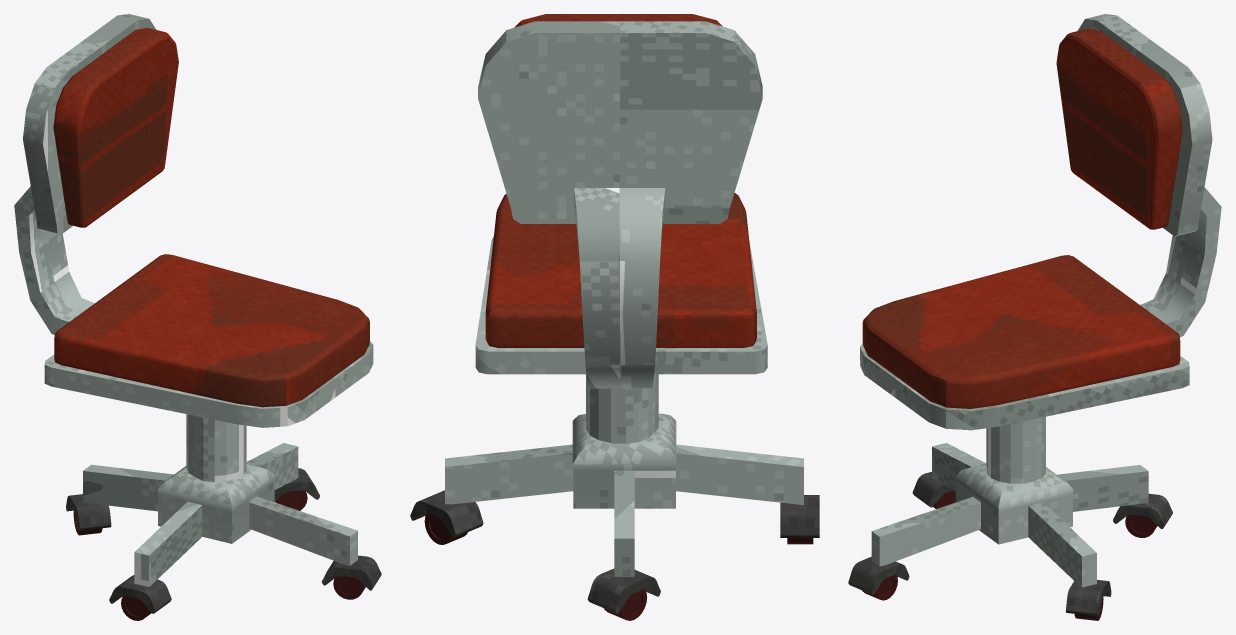
Rendered from Sedia_Prof.fbx.
3 views of the same model, side by side, from view 1: azimuth 30°, elevation 25°; view 2: azimuth 150°, elevation 25°; view 3: azimuth 270°, elevation 25° (orthographic). The views are drawn at different scales.
Visible parts, largest first — view 1: pCube57, pCube60, pCube59, pCube61, pCube62, pCube64, pCube63, pCube65, pCylinder28.001, pCylinder26.001; view 2: pCube60, pCube57, pCube61, pCube63, pCube65, pCube62, pCube59, pCylinder27.001, pCylinder29.001; view 3: pCube57, pCube60, pCube59, pCube61, pCube64, pCube65, pCube63, pCube62, pCylinder27.001.
Part boxes in pixels (x1,y1,x2,y2): pCube57: (54,254,369,407); pCube60: (14,14,373,481); pCube59: (53,28,178,227); pCube61: (83,443,357,586); pCube62: (109,575,171,613); pCube64: (322,555,381,590); pCube63: (66,494,111,530); pCube65: (274,468,319,501); pCylinder28.001: (333,576,365,599); pCylinder26.001: (121,596,151,620); pCube60: (475,21,767,443); pCube57: (485,193,756,347); pCube61: (445,413,803,576); pCube63: (587,568,660,613); pCube65: (410,490,483,537); pCube62: (780,495,819,537); pCube59: (514,14,722,27); pCylinder27.001: (604,589,647,620); pCylinder29.001: (424,513,467,544); pCube57: (862,255,1180,408); pCube60: (860,14,1221,483); pCube59: (1056,28,1182,229); pCube61: (871,443,1148,587); pCube64: (848,556,909,594); pCube65: (1065,580,1111,616); pCube63: (1113,493,1172,528); pCube62: (912,472,954,507); pCylinder27.001: (1125,514,1157,537).
Bounding box in the file's own units: 6.77 × 10.86 × 7.48.
Materials: 4 (3 with a texture image).
